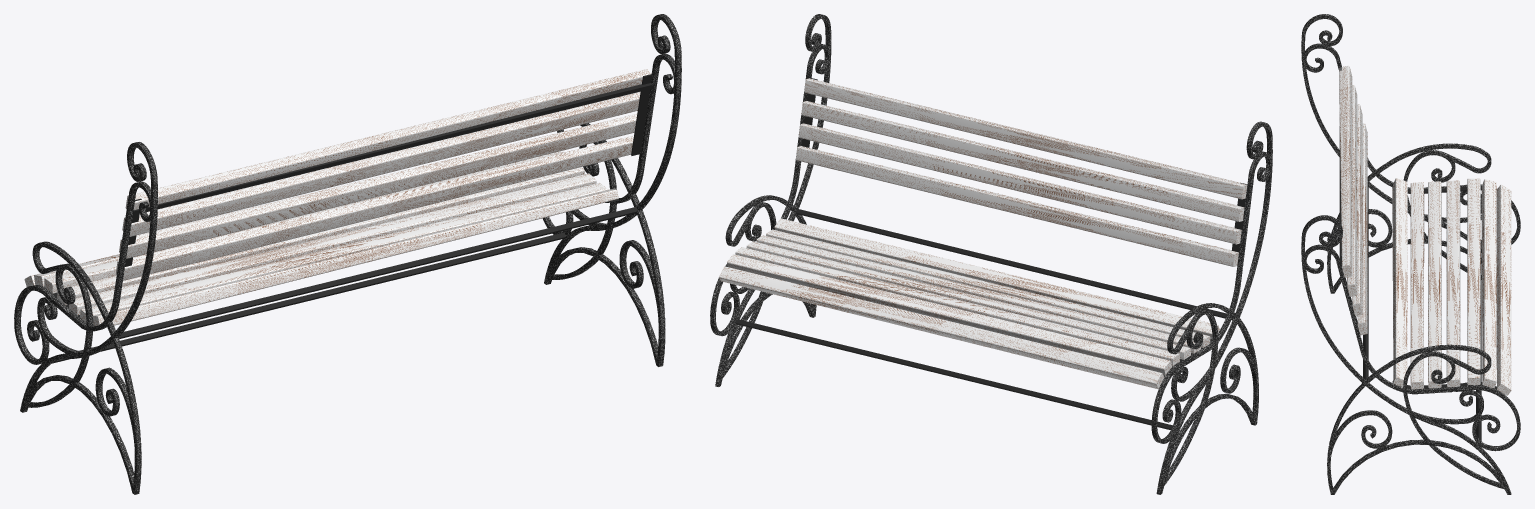
The picture shows the model from 3 angles, left to right: view 1: azimuth 30°, elevation 25°; view 2: azimuth 150°, elevation 25°; view 3: azimuth 270°, elevation 25°; orthographic projection. The views are drawn at different scales.
Visible parts, largest first — view 1: mesh4_mesh4-geometry, mesh7_mesh7-geometry, mesh8_mesh8-geometry, mesh3_mesh3-geometry, mesh2_mesh2-geometry; view 2: mesh4_mesh4-geometry, mesh7_mesh7-geometry, mesh3_mesh3-geometry, mesh8_mesh8-geometry; view 3: mesh4_mesh4-geometry, mesh3_mesh3-geometry, mesh7_mesh7-geometry, mesh8_mesh8-geometry.
Boxes of the visible parts, x1,y1,x2,y2 form: mesh4_mesh4-geometry: (24,69,650,327); mesh7_mesh7-geometry: (14,142,157,494); mesh8_mesh8-geometry: (47,83,652,363); mesh3_mesh3-geometry: (542,14,681,366); mesh2_mesh2-geometry: (631,74,652,155); mesh4_mesh4-geometry: (719,78,1247,389); mesh7_mesh7-geometry: (1151,121,1272,494); mesh3_mesh3-geometry: (710,14,831,386); mesh8_mesh8-geometry: (735,208,1232,430); mesh4_mesh4-geometry: (1339,65,1511,395); mesh3_mesh3-geometry: (1301,215,1520,494); mesh7_mesh7-geometry: (1301,14,1520,293); mesh8_mesh8-geometry: (1339,126,1481,442).
Size of the model in its own units: 0.7866 by 0.5024 by 0.359.
